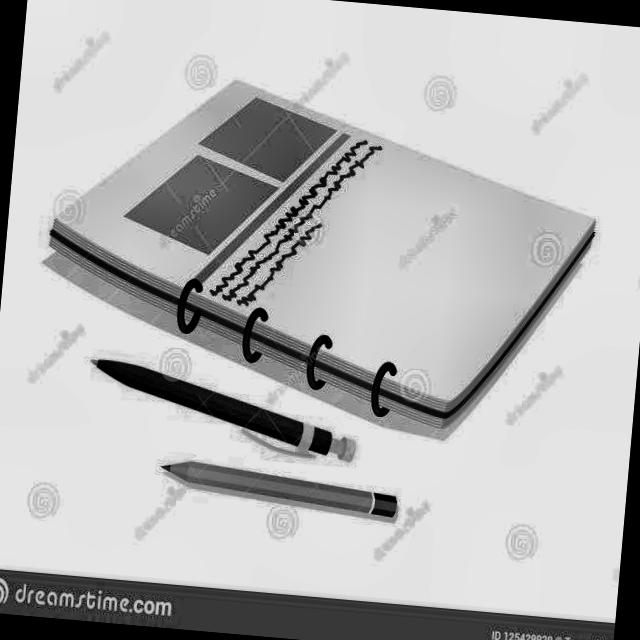Notebook: (16, 85, 593, 433)
Pen: (85, 341, 397, 468)
